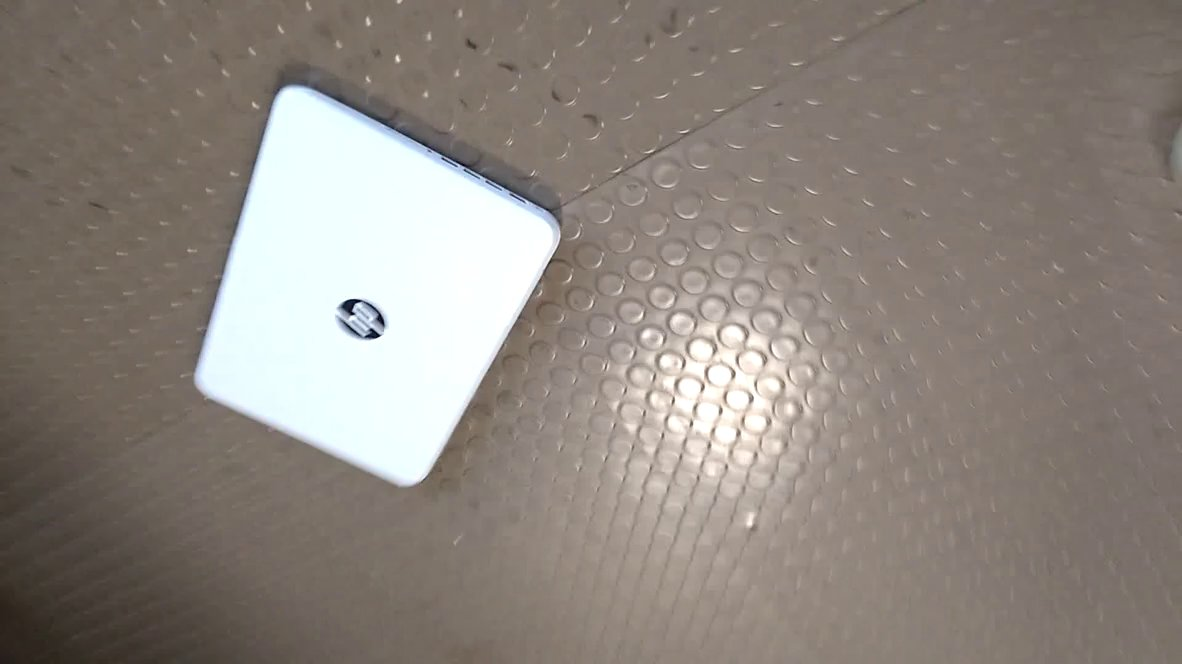laptop: (190, 69, 569, 503)
